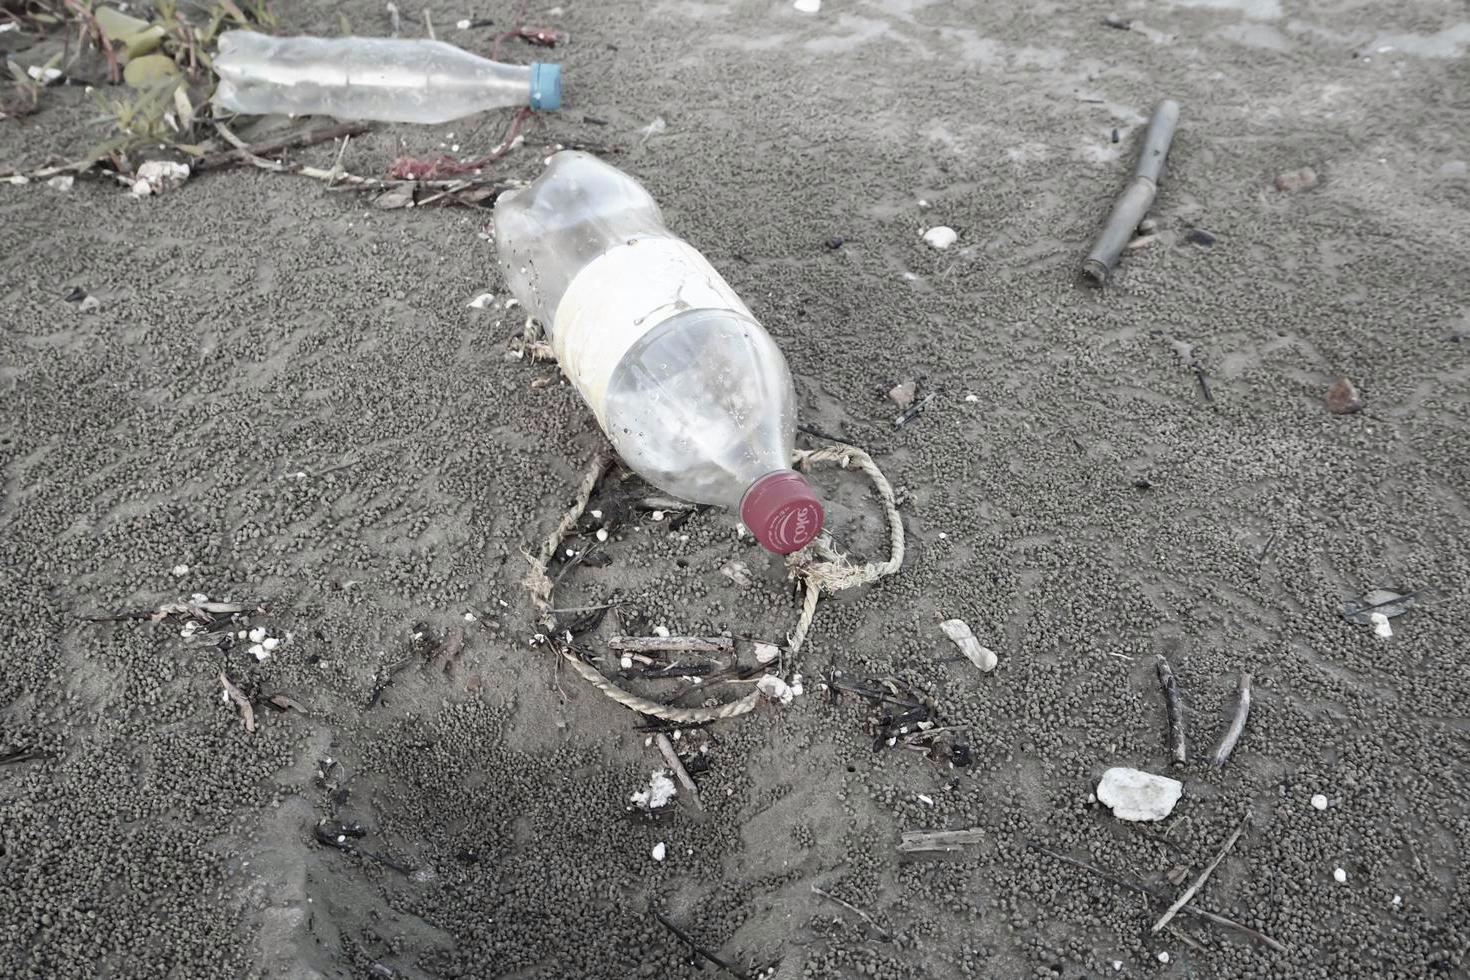Plastic: (478, 122, 894, 572), (178, 17, 607, 182)
